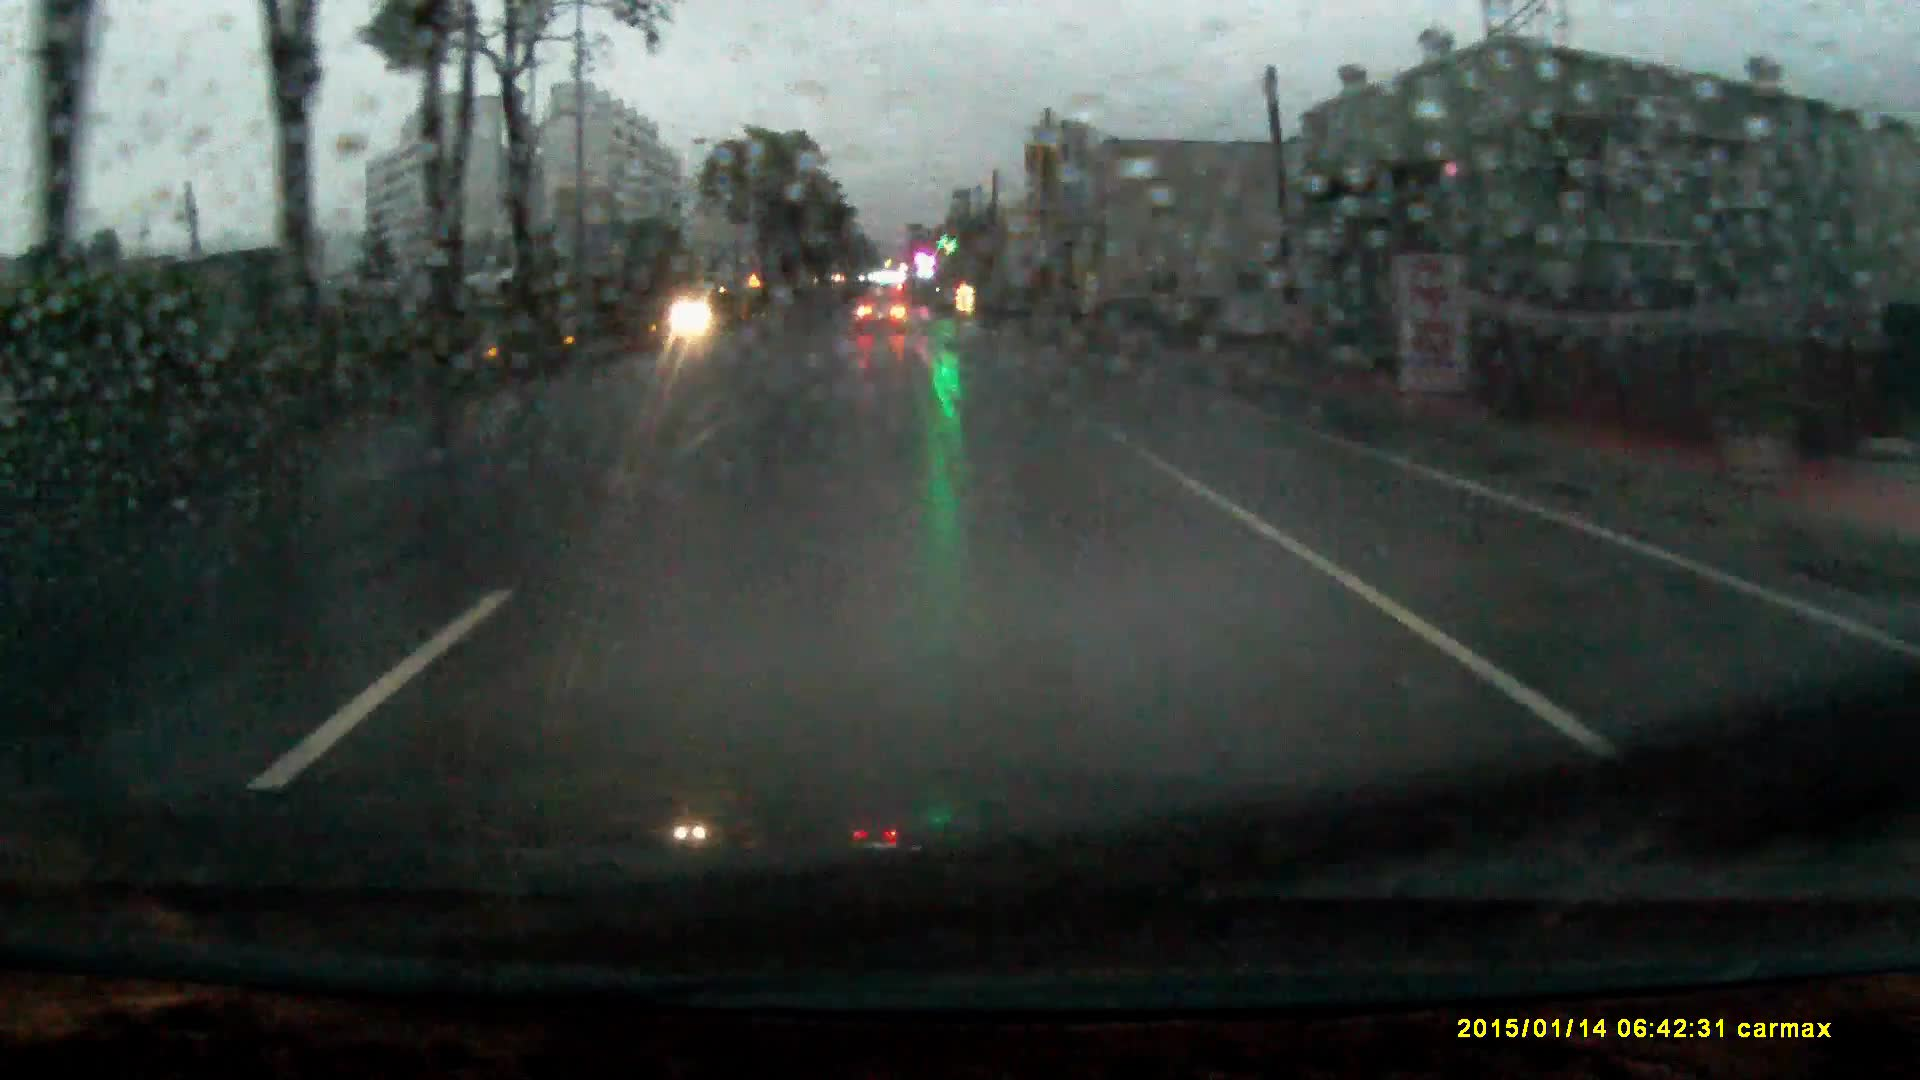vehicle: (855, 295, 906, 342)
